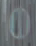Two way: (5, 2, 35, 42)
